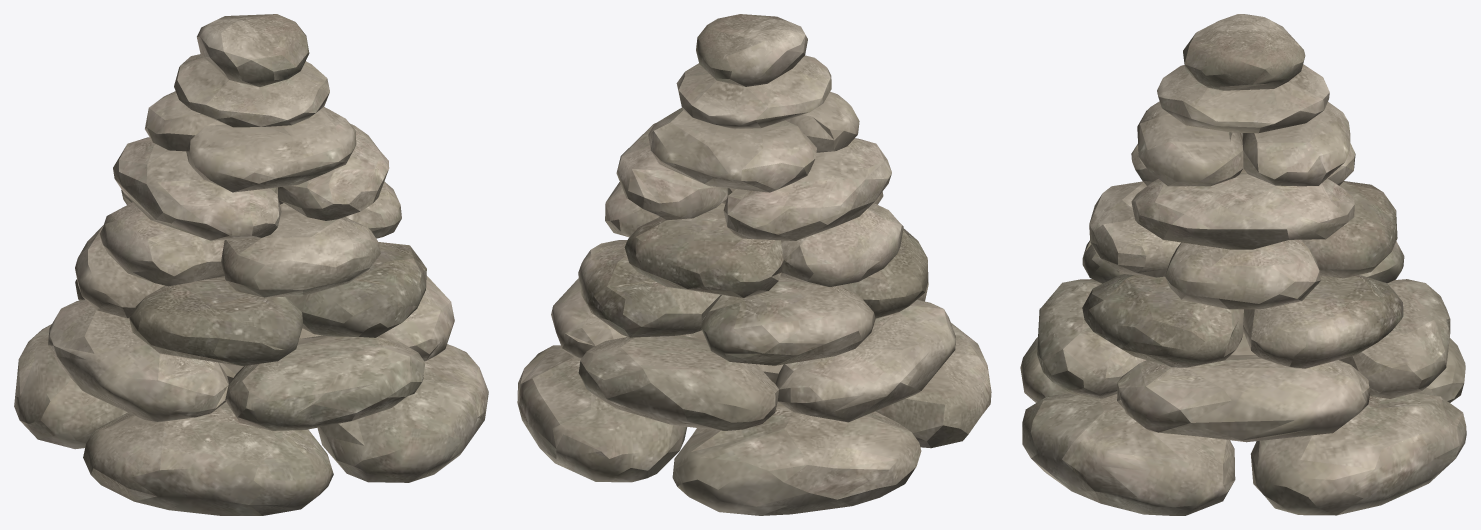
File: cairn.glb
3 renders of one model, left to right at view 1: azimuth 30°, elevation 25°; view 2: azimuth 150°, elevation 25°; view 3: azimuth 270°, elevation 25°, orthographic.
Size of the model in its own units: 1.86 by 1.9 by 1.86.
Materials: 1 (1 with a texture image).
